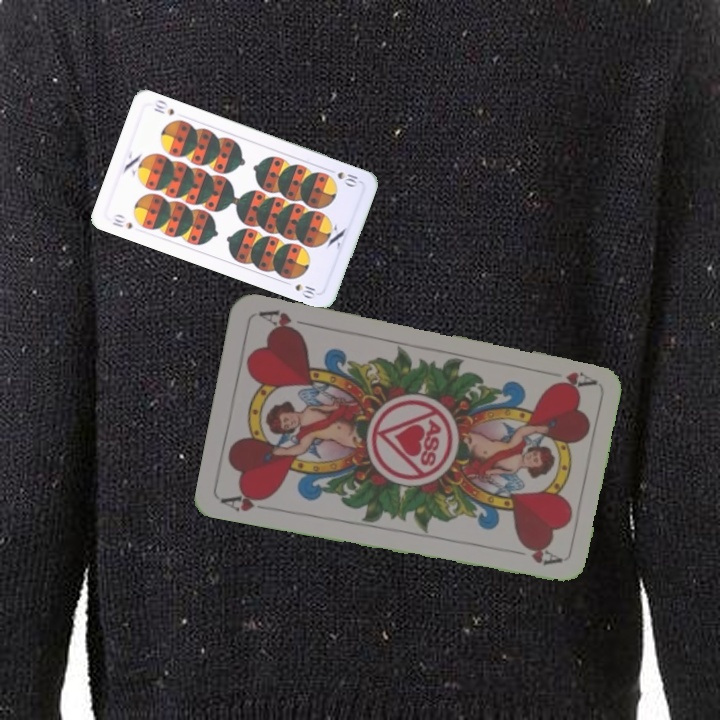HA: (218, 487, 278, 514), (552, 367, 597, 390)
S10: (323, 164, 360, 189), (108, 210, 135, 232)
